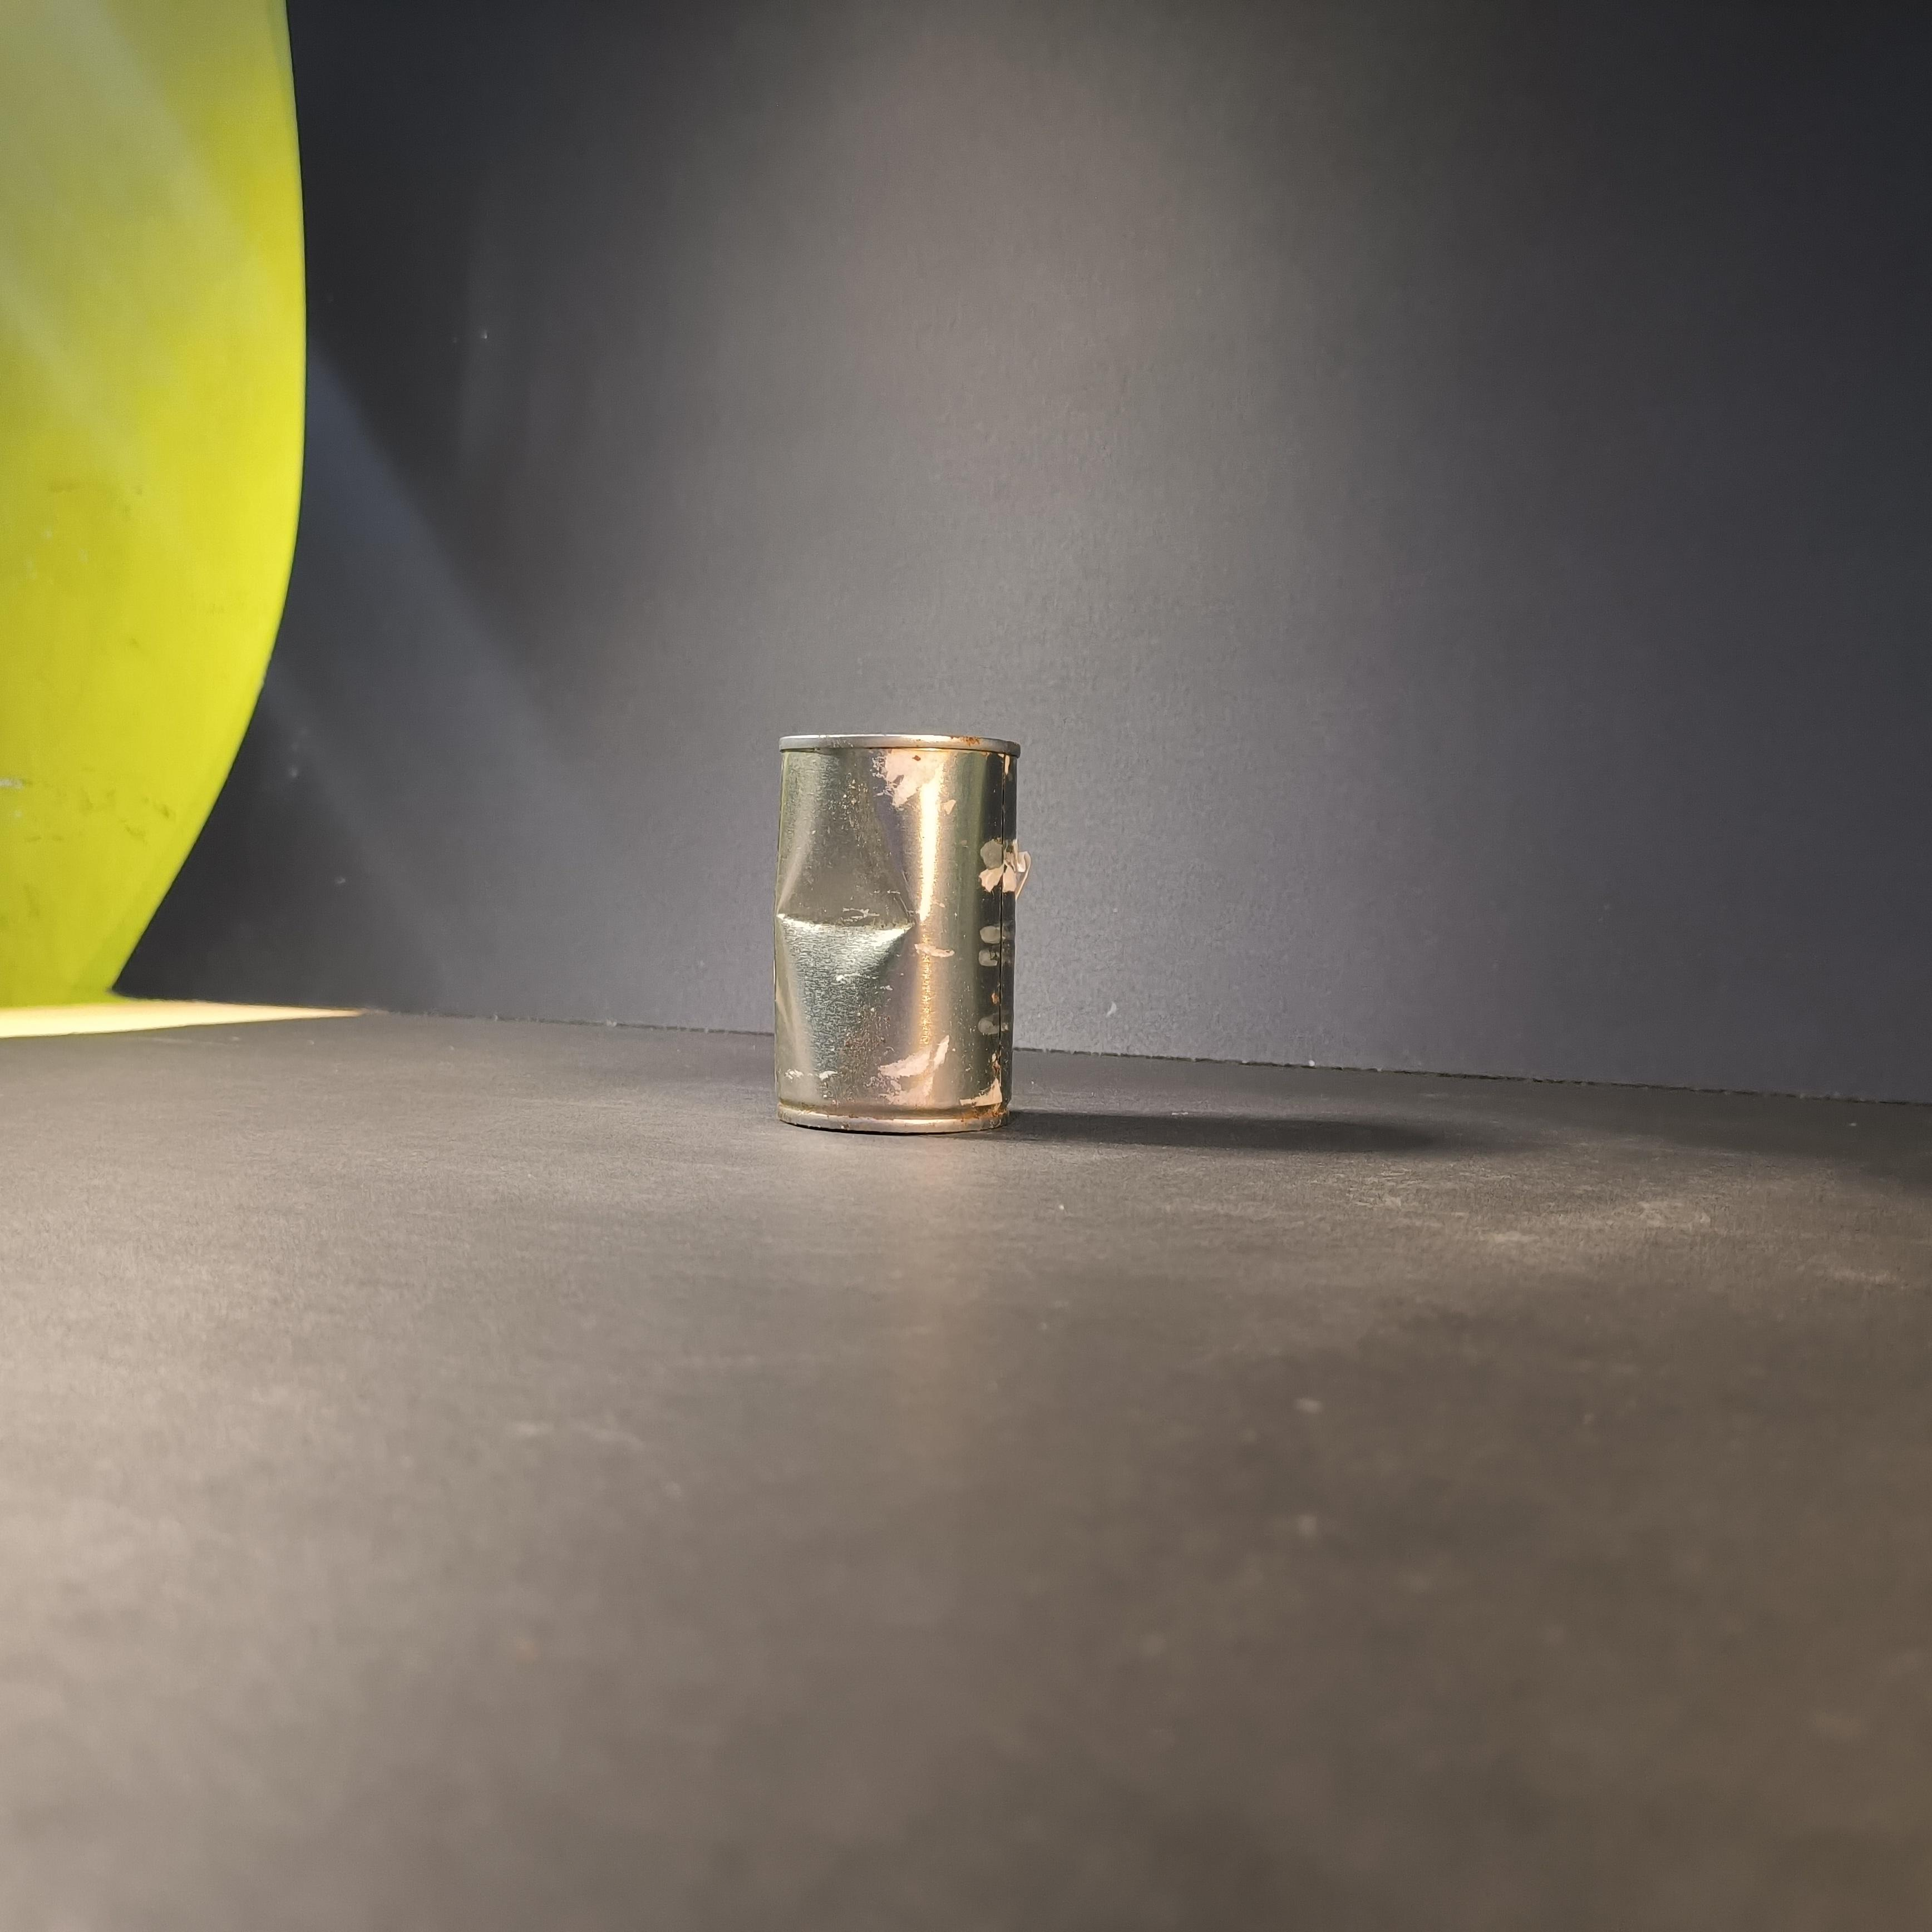Minor Defect: (769, 726, 1022, 1140)
